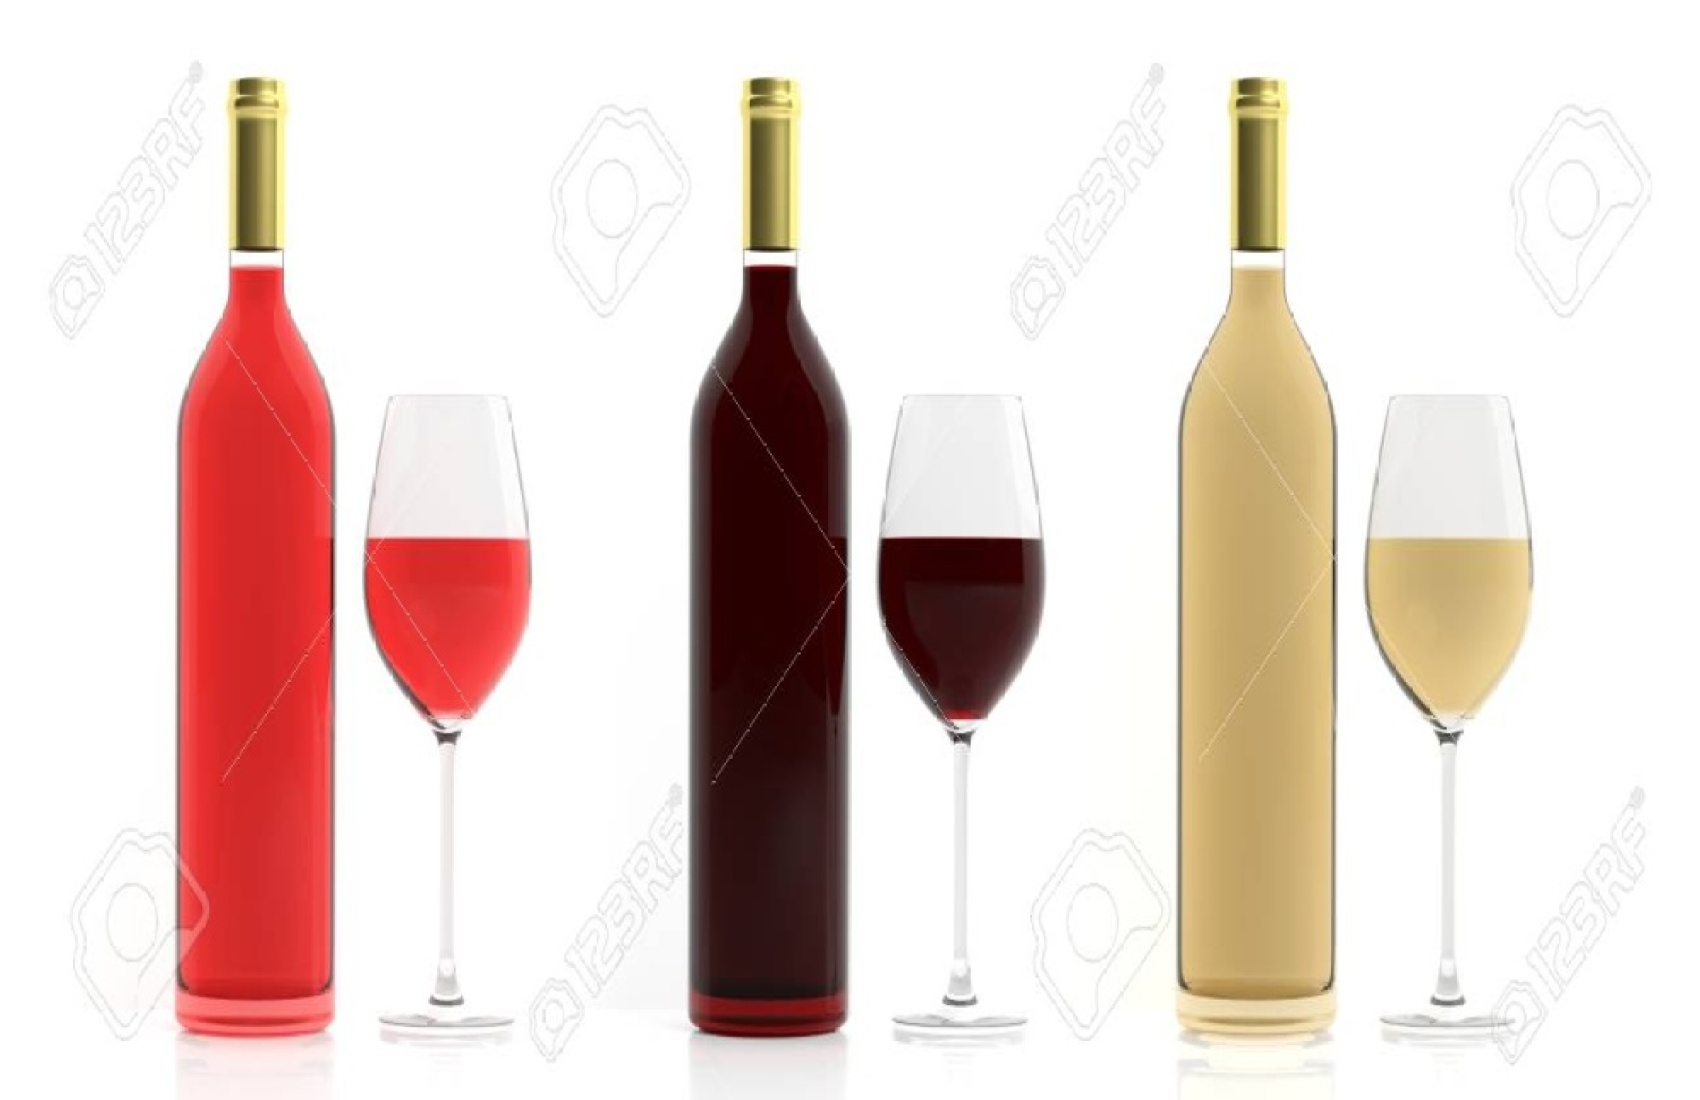wine: (677, 79, 846, 1034), (169, 81, 337, 1036), (1167, 71, 1336, 1026)
